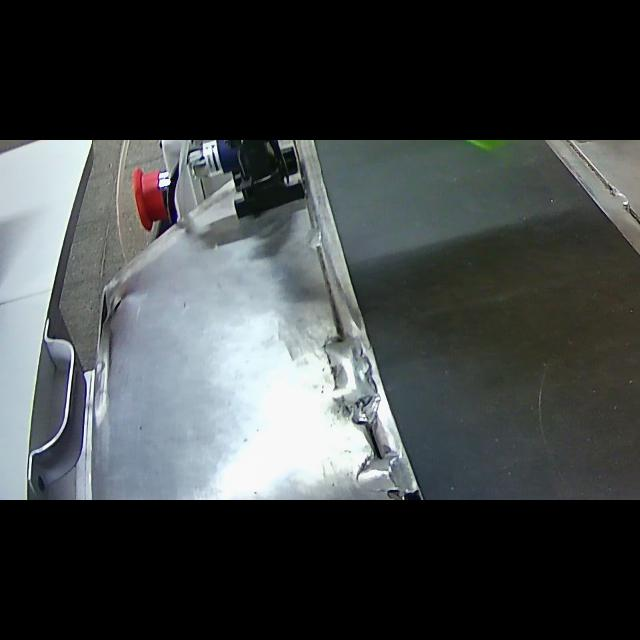greenBox: (253, 140, 607, 163)
